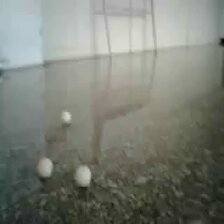tennis: (158, 110, 181, 137), (75, 81, 91, 103), (1, 71, 10, 96), (82, 60, 93, 77)
